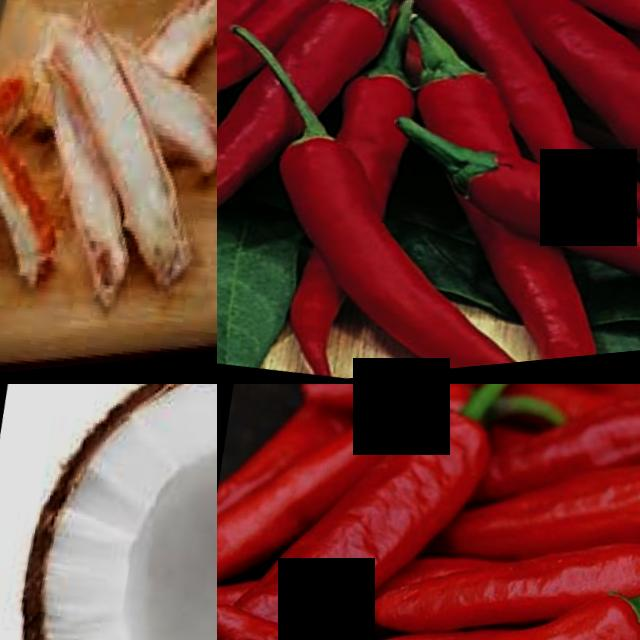chilli: (302, 384, 502, 623), (217, 527, 640, 640), (310, 228, 573, 384), (410, 127, 640, 299), (529, 405, 640, 586), (317, 47, 420, 181)
coconut: (0, 384, 217, 640)
crab: (0, 48, 84, 332)
